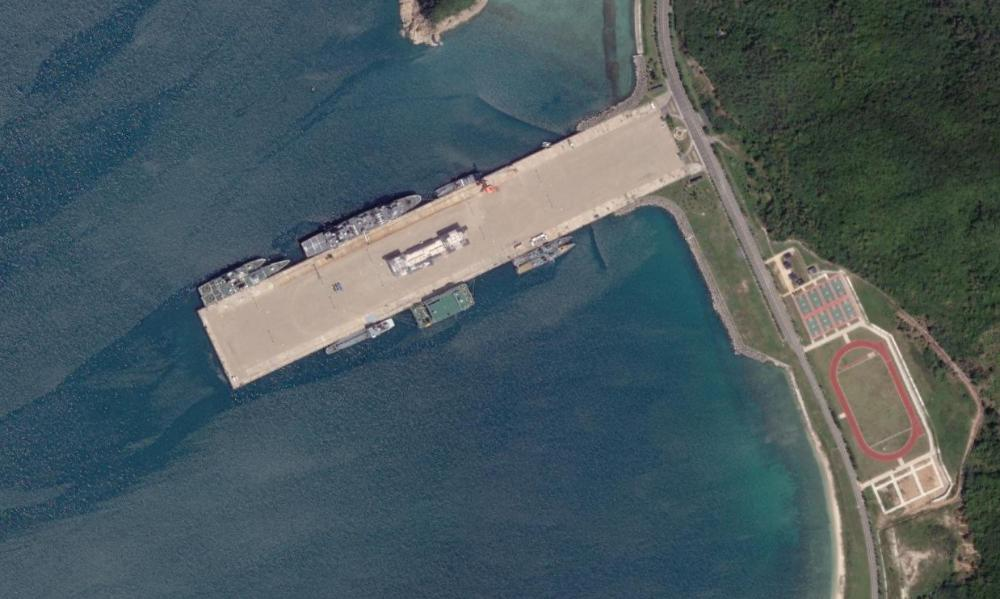fregate: (299, 192, 422, 261)
